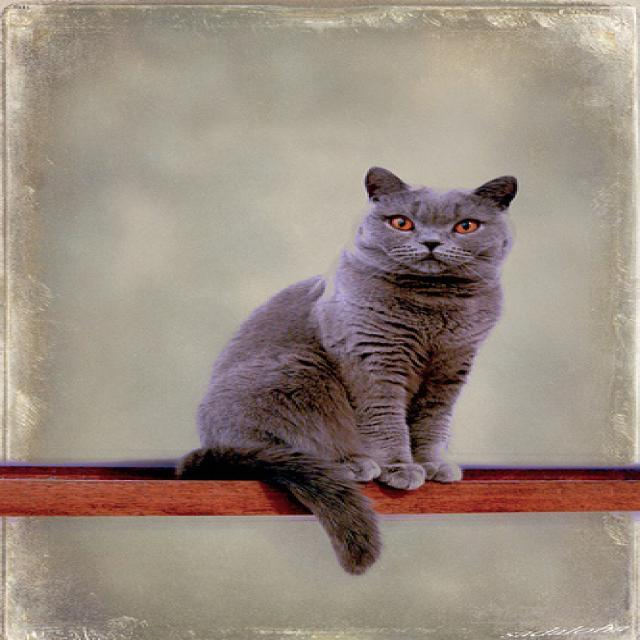British_Shorthair: (361, 165, 515, 270)
